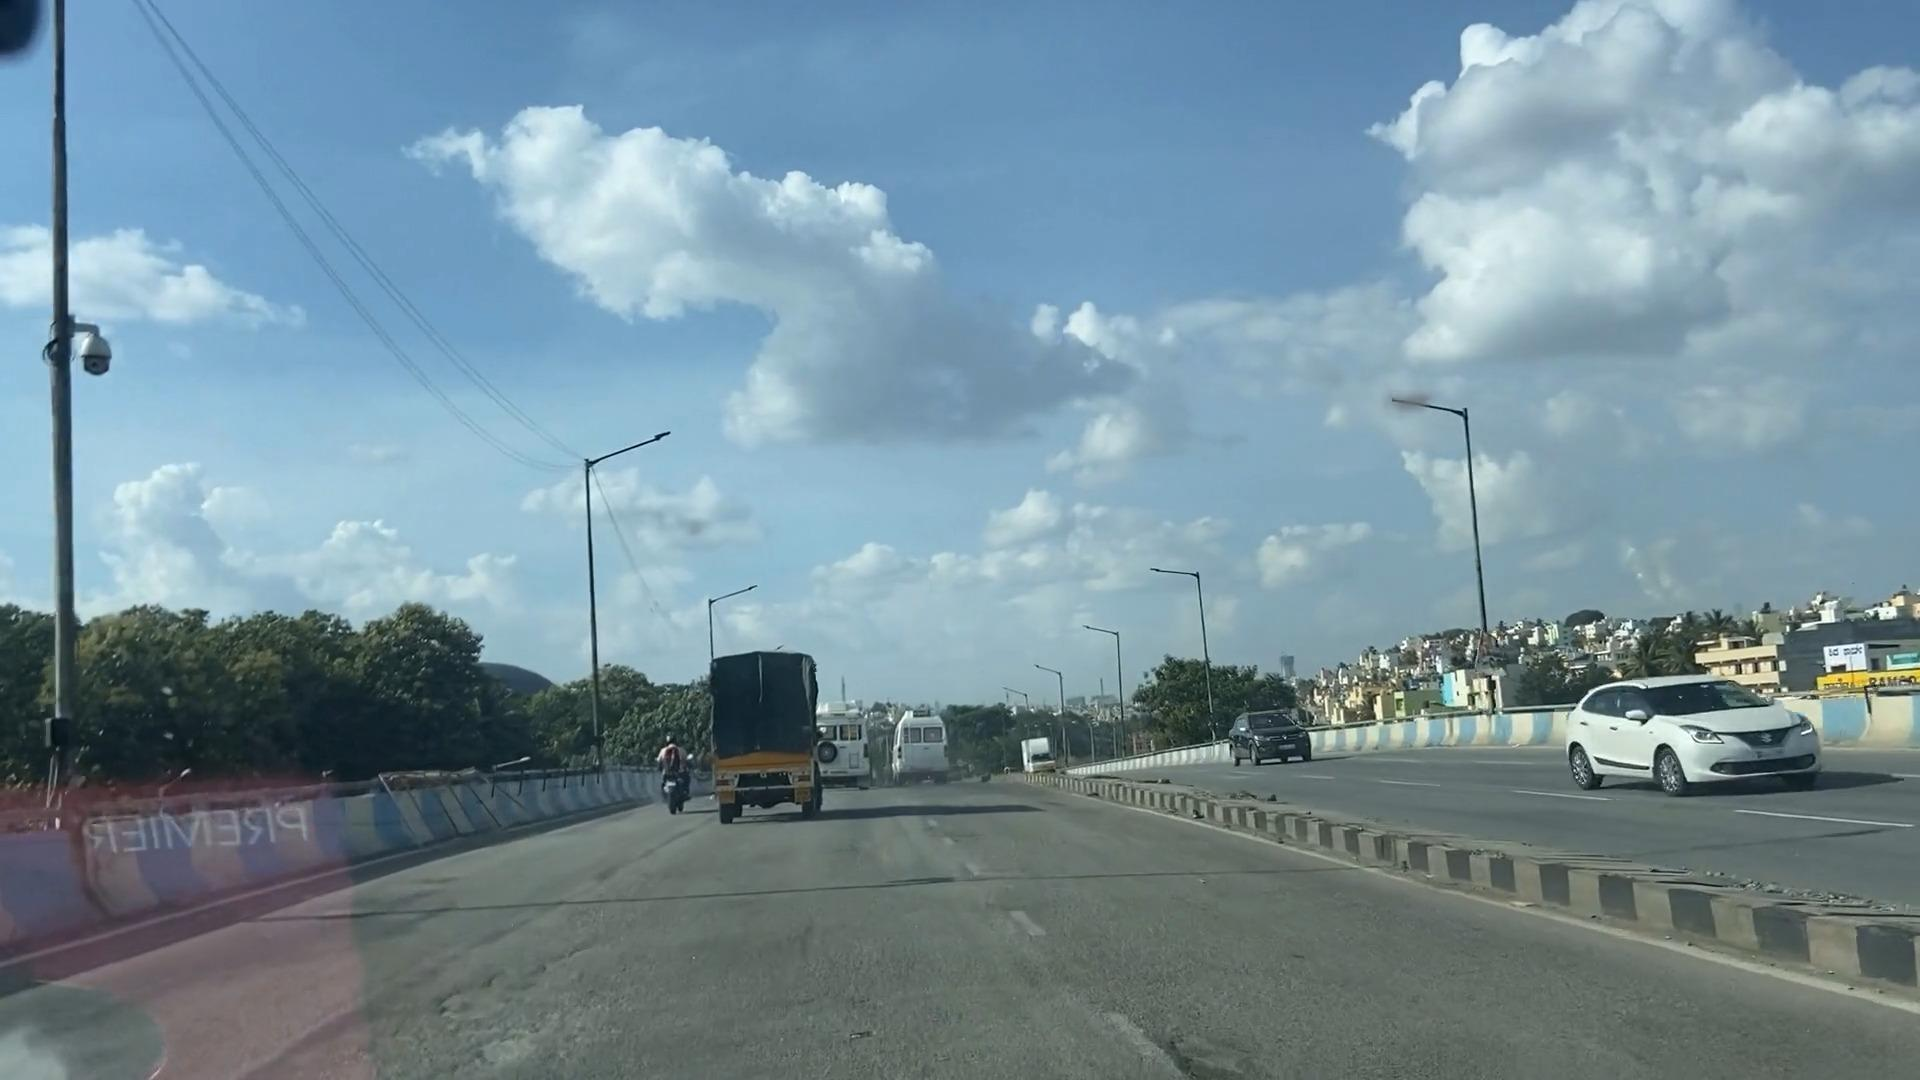HMV: (692, 645, 831, 823)
LMV: (638, 712, 695, 823)
RoadDamages: (989, 927, 1298, 1076), (372, 947, 676, 1073)
